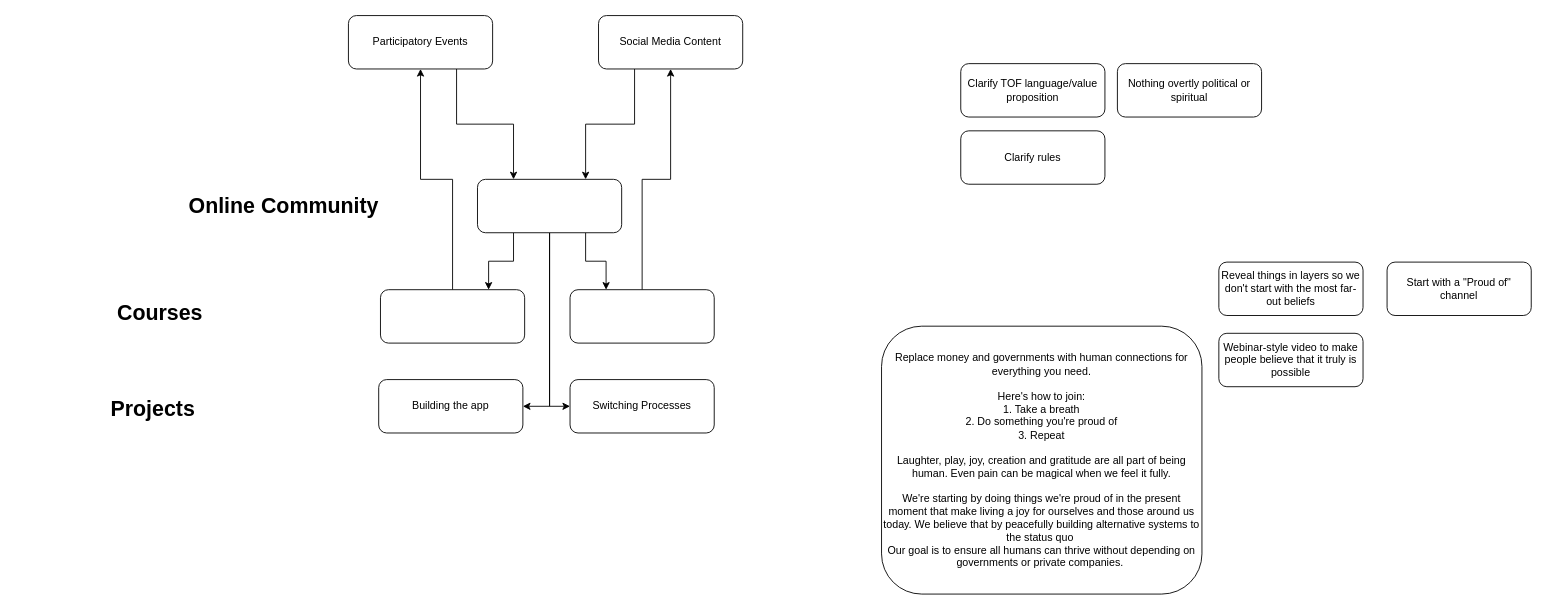
The diagram is 1547 pixels wide and 610 high, and some of its shapes have lost their labels. Here are the shapes that lost their labels. From the top down, the box of each, then its label:
(477, 178, 622, 233): Skool Community
(380, 289, 525, 343): Event Planning
(569, 289, 714, 343): Social Media
